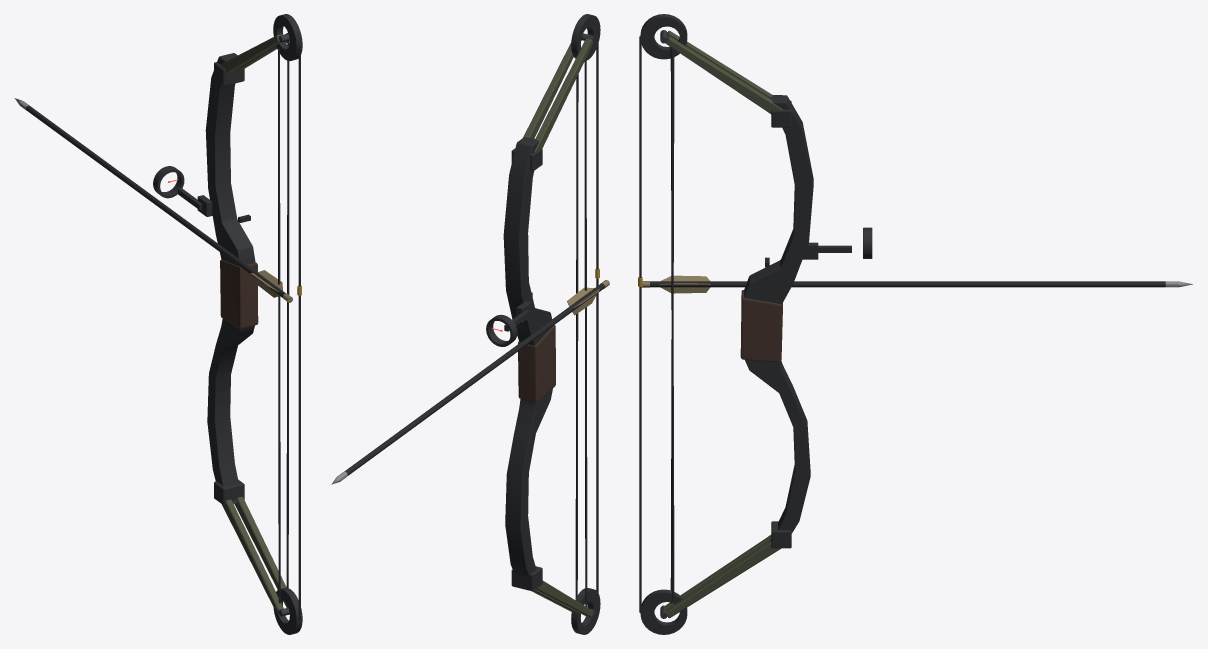
File: wpn_thorn_bow.glb
The picture shows the model from 3 angles, left to right: view 1: azimuth 30°, elevation 25°; view 2: azimuth 150°, elevation 25°; view 3: azimuth 270°, elevation 25°; orthographic projection.
Visible parts, largest first — view 1: Riser, Limbs, Cables, CarbonArrow, GripWrap, Cams, PinSight, StringLower, StringUpper; view 2: Riser, Limbs, Cables, CarbonArrow, GripWrap, Cams, StringLower, PinSight, StringUpper; view 3: Riser, Limbs, CarbonArrow, Cams, GripWrap, Cables, StringLower, PinSight, StringUpper.
Part boxes in pixels (x1,y1,x2,y2): Riser: (205, 53, 255, 503); Limbs: (214, 33, 288, 613); Cables: (238, 41, 289, 603); CarbonArrow: (26, 105, 292, 302); GripWrap: (220, 259, 258, 328); Cams: (273, 14, 302, 634); PinSight: (153, 166, 212, 216); StringLower: (298, 298, 300, 620); StringUpper: (297, 46, 301, 297); Riser: (503, 137, 552, 577); Limbs: (511, 38, 593, 617); Cables: (531, 57, 587, 606); CarbonArrow: (344, 280, 609, 475); GripWrap: (518, 325, 555, 402); Cams: (571, 14, 600, 634); StringLower: (596, 281, 598, 592); PinSight: (486, 301, 531, 346); StringUpper: (595, 43, 599, 280); Riser: (744, 95, 813, 539); Limbs: (665, 30, 791, 618); CarbonArrow: (641, 275, 1165, 293); Cams: (640, 14, 687, 634); GripWrap: (740, 290, 782, 361); Cables: (670, 47, 769, 603); StringLower: (639, 289, 641, 612); PinSight: (802, 227, 872, 259); StringUpper: (638, 36, 642, 289).
Size of the model in its own units: 0.066 by 0.87 by 0.709.
